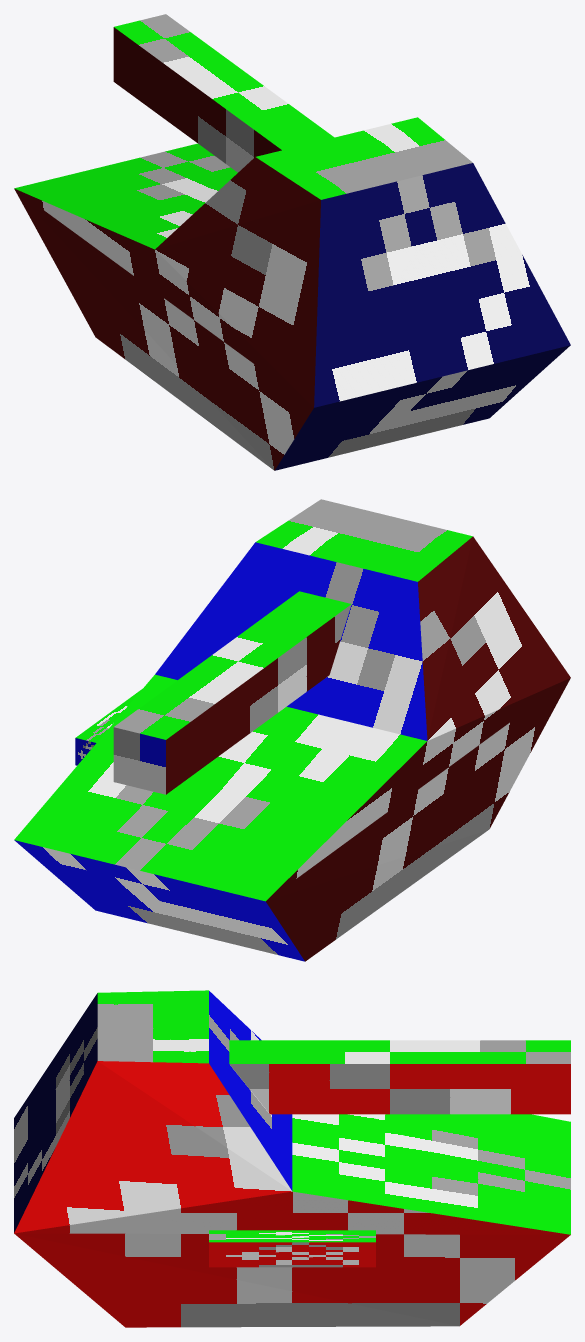
File: heavytank.obj
3 renders of one model, top to bottom at view 1: azimuth 30°, elevation 25°; view 2: azimuth 150°, elevation 25°; view 3: azimuth 270°, elevation 25°, orthographic. The views are drawn at different scales.
Visible parts, largest first — view 1: heavytank5; view 2: heavytank5; view 3: heavytank5.
Boxes of the visible parts, x1=… form: heavytank5: x1=14, y1=14, x2=570, y2=470; heavytank5: x1=14, y1=499, x2=570, y2=961; heavytank5: x1=14, y1=990, x2=570, y2=1327.
Size of the model in its own units: 1.17 by 1 by 2.
1 material, 1 textured.
